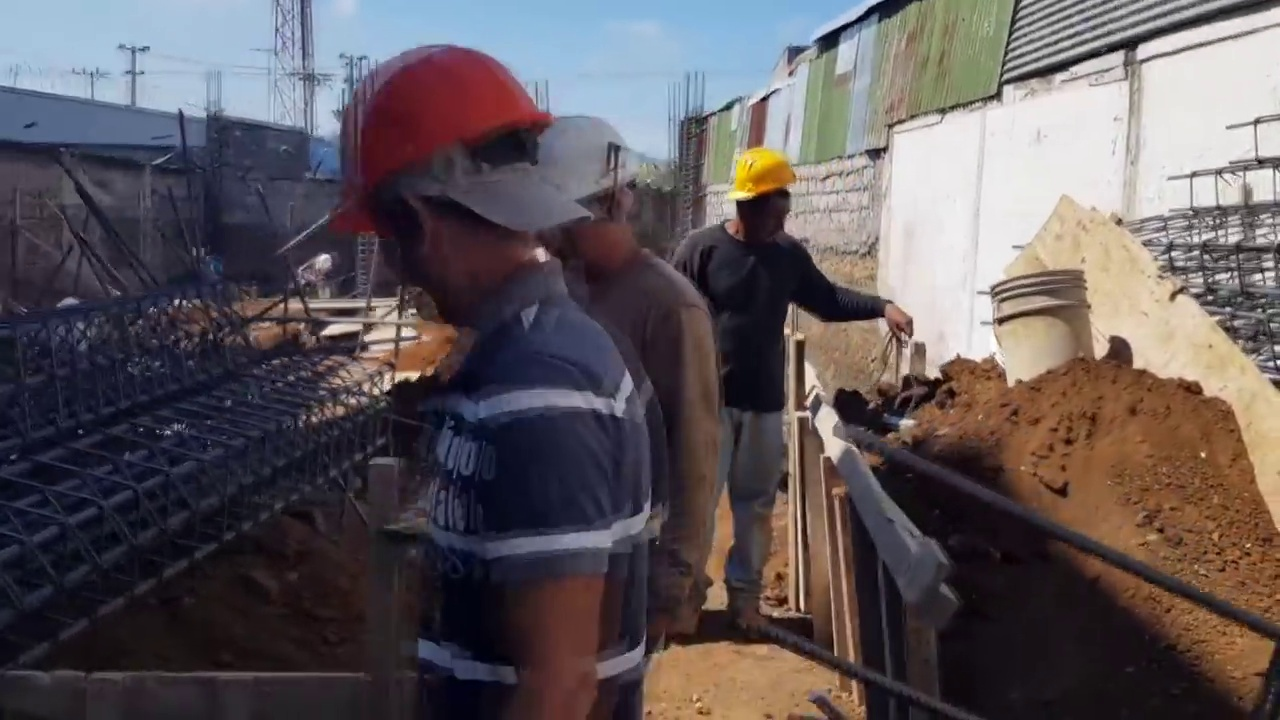helmet: (324, 52, 554, 251), (541, 117, 637, 221), (718, 146, 799, 208)
helmet-on: (324, 54, 571, 313), (541, 113, 649, 302), (731, 144, 802, 244)
person: (327, 53, 648, 713), (683, 131, 892, 636), (541, 114, 722, 651)
